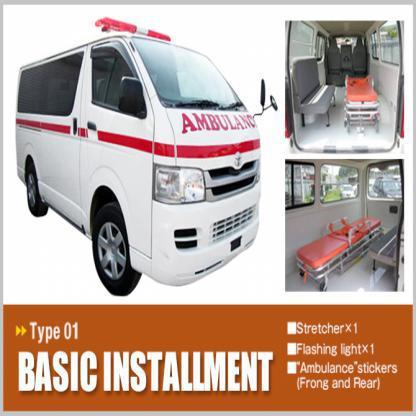Ambulance - v1 Ambulance last generate: (13, 12, 279, 290)
